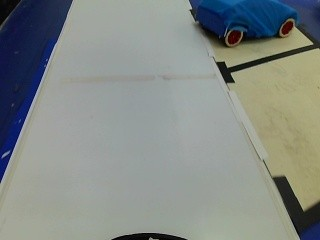car: (191, 0, 303, 49)
